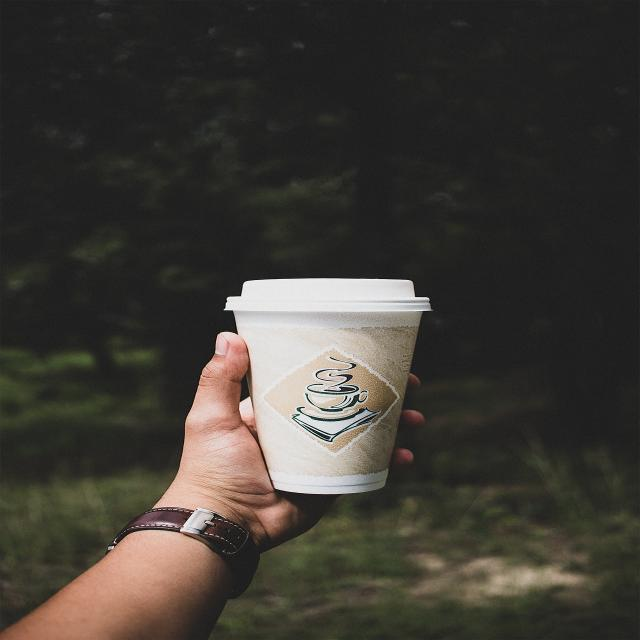cup: (223, 276, 435, 494)
